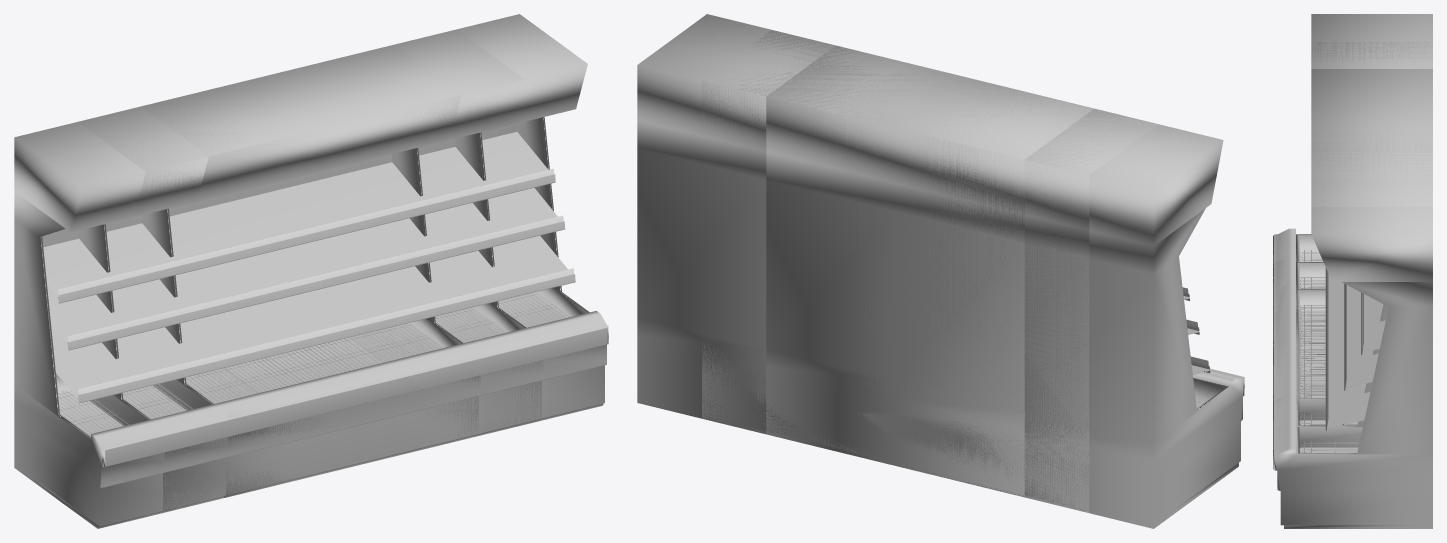
The model's file is kuehlregal.fbx.
The picture shows the model from 3 angles, left to right: view 1: azimuth 30°, elevation 25°; view 2: azimuth 150°, elevation 25°; view 3: azimuth 270°, elevation 25°; orthographic projection. The views are drawn at different scales.
Parts seen in each view (by area): view 1: kuehlregal_4er, kuehlregal_3er, kuehlregal_2er; view 2: kuehlregal_4er, kuehlregal_2er, kuehlregal_3er; view 3: kuehlregal_4er, kuehlregal_3er, kuehlregal_2er.
Part boxes in pixels (x1=…): kuehlregal_4er: x1=14, y1=14, x2=608, y2=528; kuehlregal_3er: x1=78, y1=29, x2=545, y2=512; kuehlregal_2er: x1=141, y1=45, x2=481, y2=497; kuehlregal_4er: x1=637, y1=14, x2=1244, y2=528; kuehlregal_2er: x1=766, y1=46, x2=1093, y2=495; kuehlregal_3er: x1=702, y1=30, x2=1158, y2=512; kuehlregal_4er: x1=1273, y1=14, x2=1432, y2=528; kuehlregal_3er: x1=1273, y1=41, x2=1432, y2=447; kuehlregal_2er: x1=1273, y1=69, x2=1432, y2=420.
Size of the model in its own units: 400 by 250 by 123.
